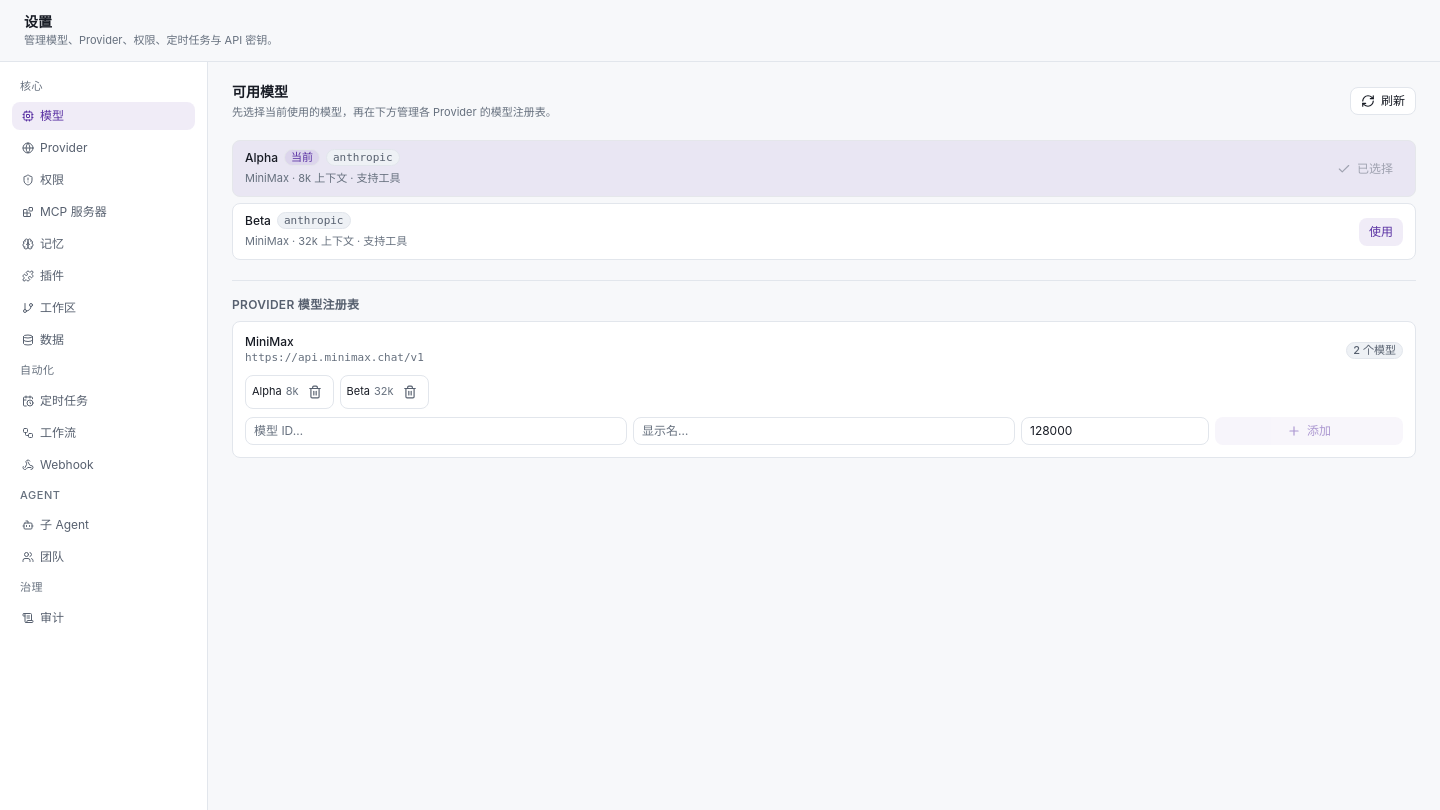
Test: SettingsPage › switches to the permissions tab and shows an empty state
This screenshot has width=1440, height=810.
Click the tab with test id "settings-tab-permissions". click: [104, 180]
box: [12,166,195,194]
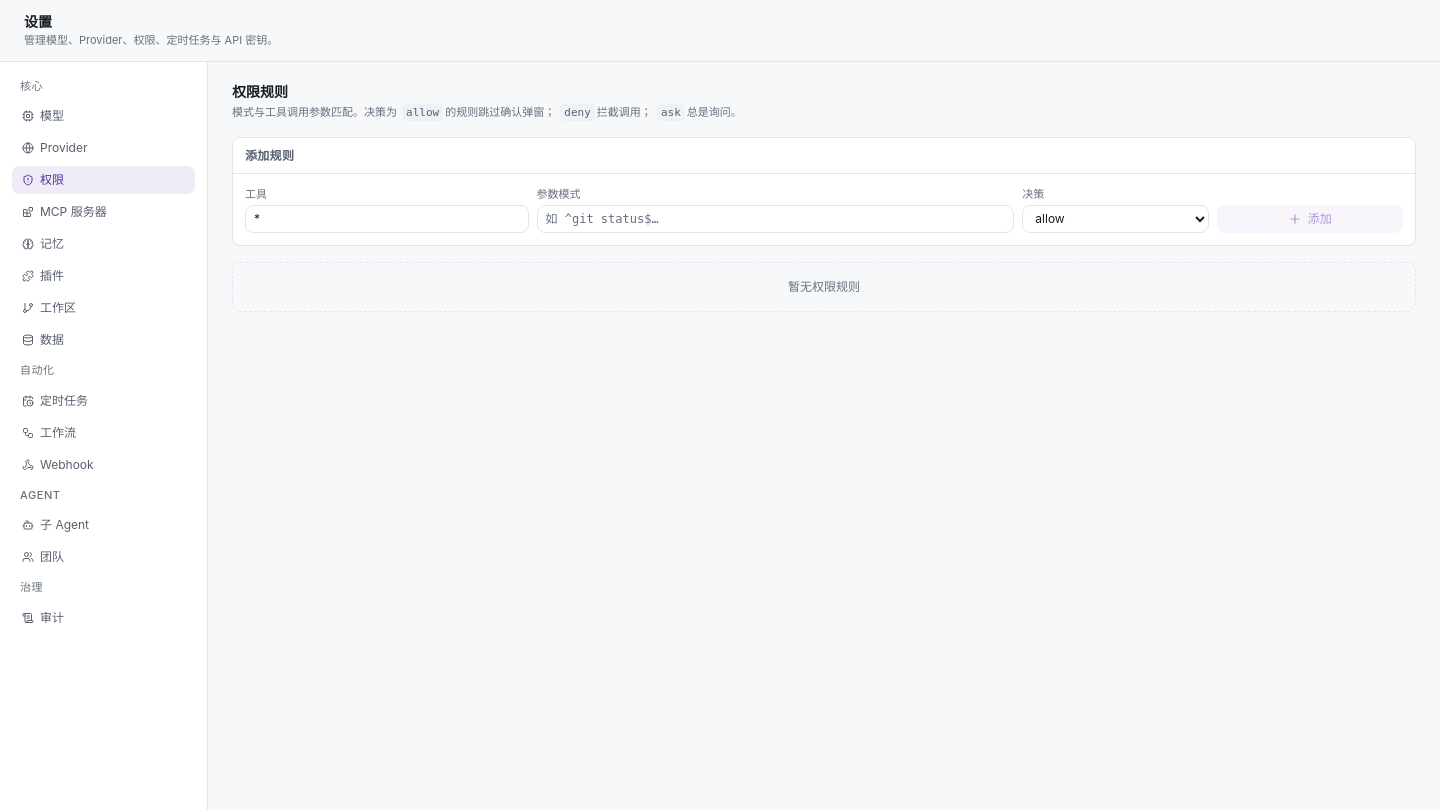
expect the list with test id "settings-permissions-list" reads "暂无权限规则": met, box [788,278,860,294]
